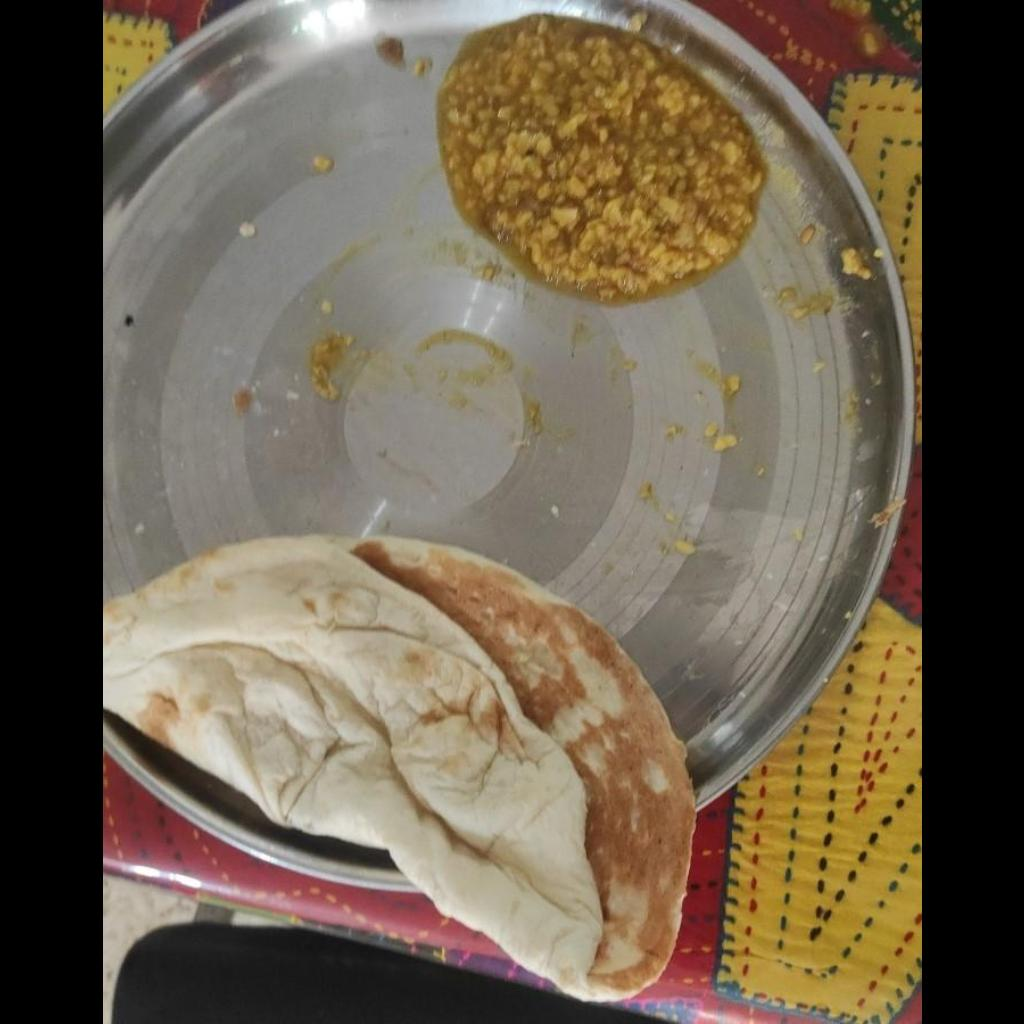daal: (435, 11, 768, 306)
ruti: (103, 535, 699, 1006)
